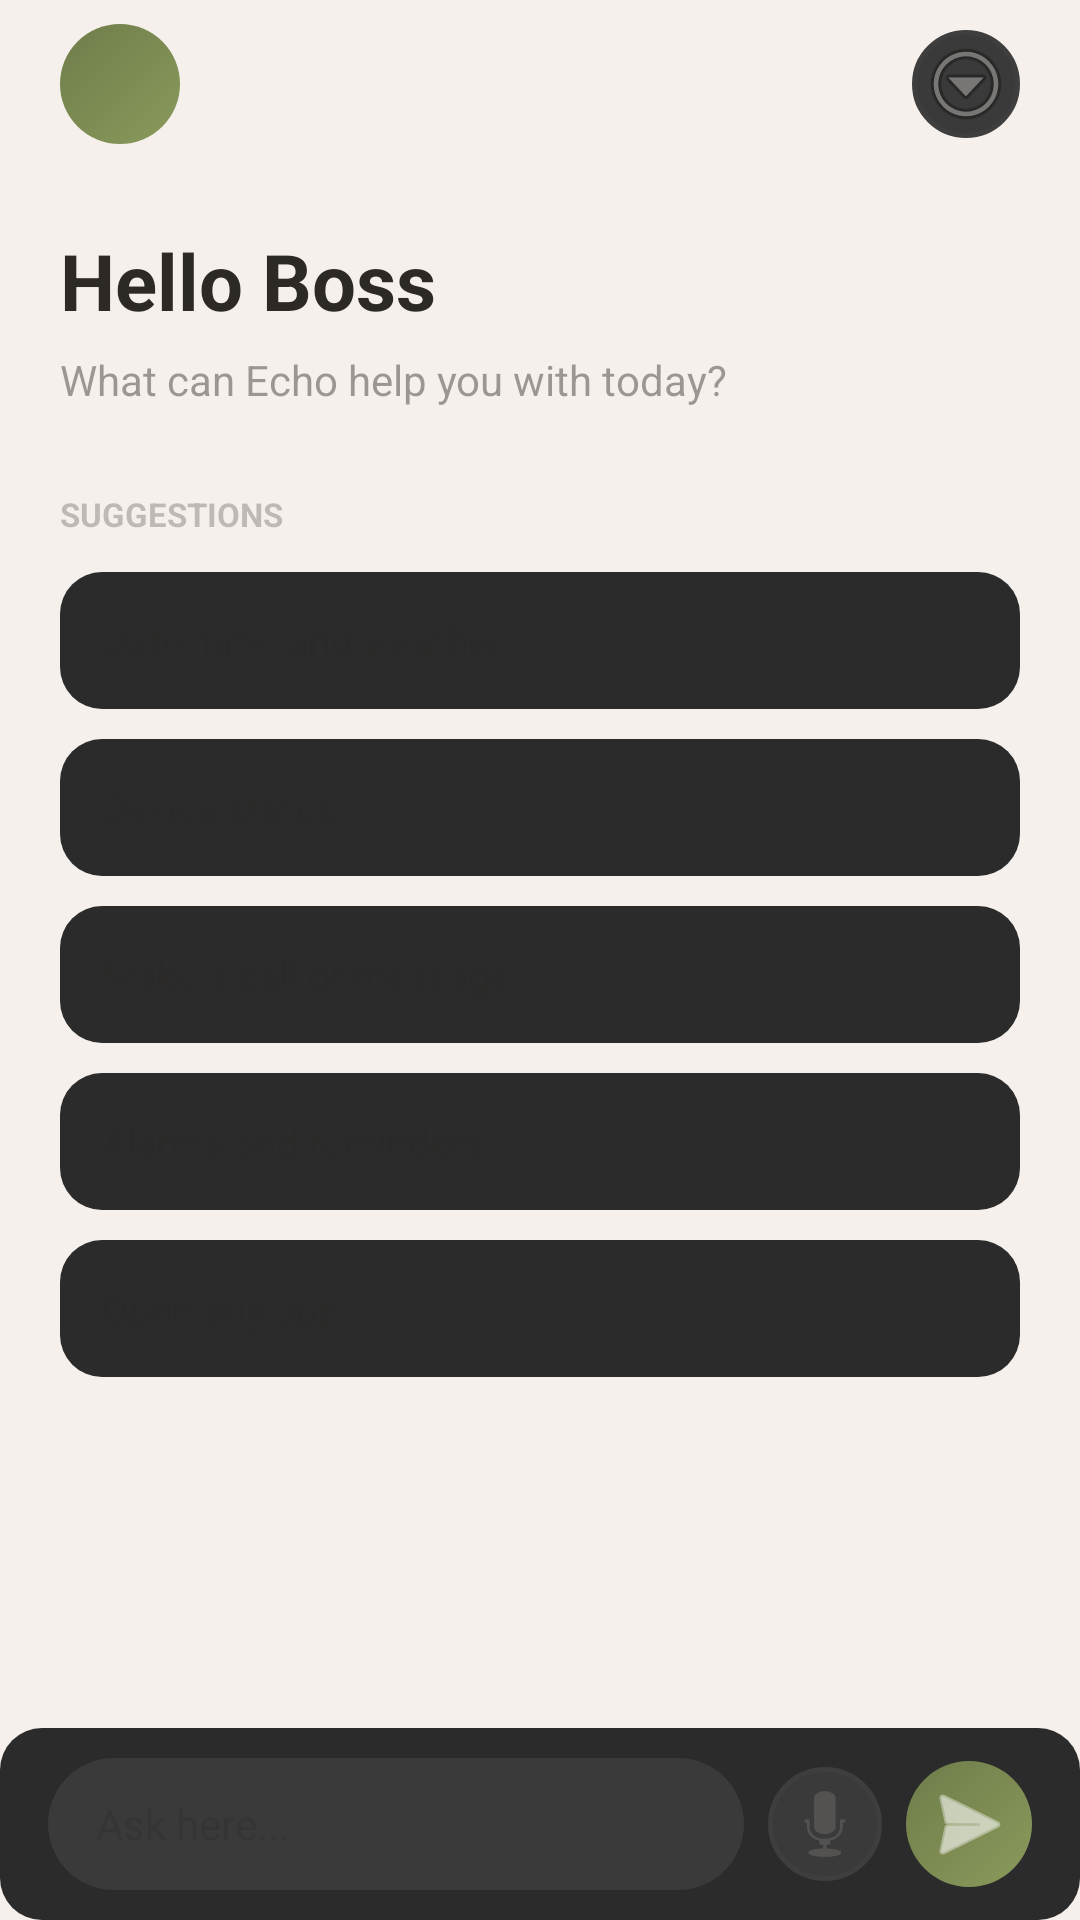

Icon bounding boxes for this 1080px x 1920px phone screenshot, format region(x1, y1, x2, y2):
more: region(912, 30, 1020, 138)
send: region(906, 1761, 1032, 1887)
speak now: region(805, 1791, 845, 1857)
